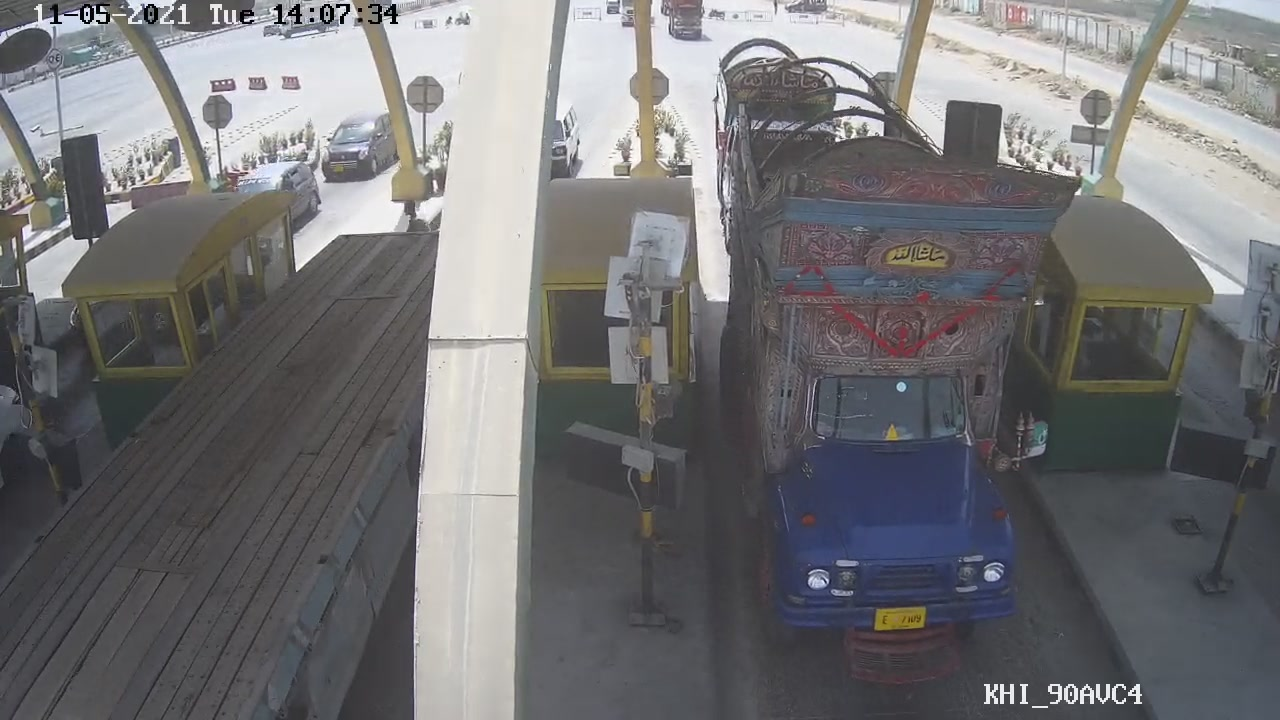F5: (707, 98, 1089, 702)
